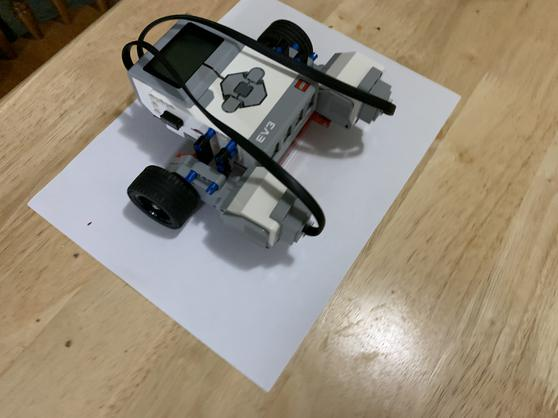robot: (111, 9, 397, 251)
